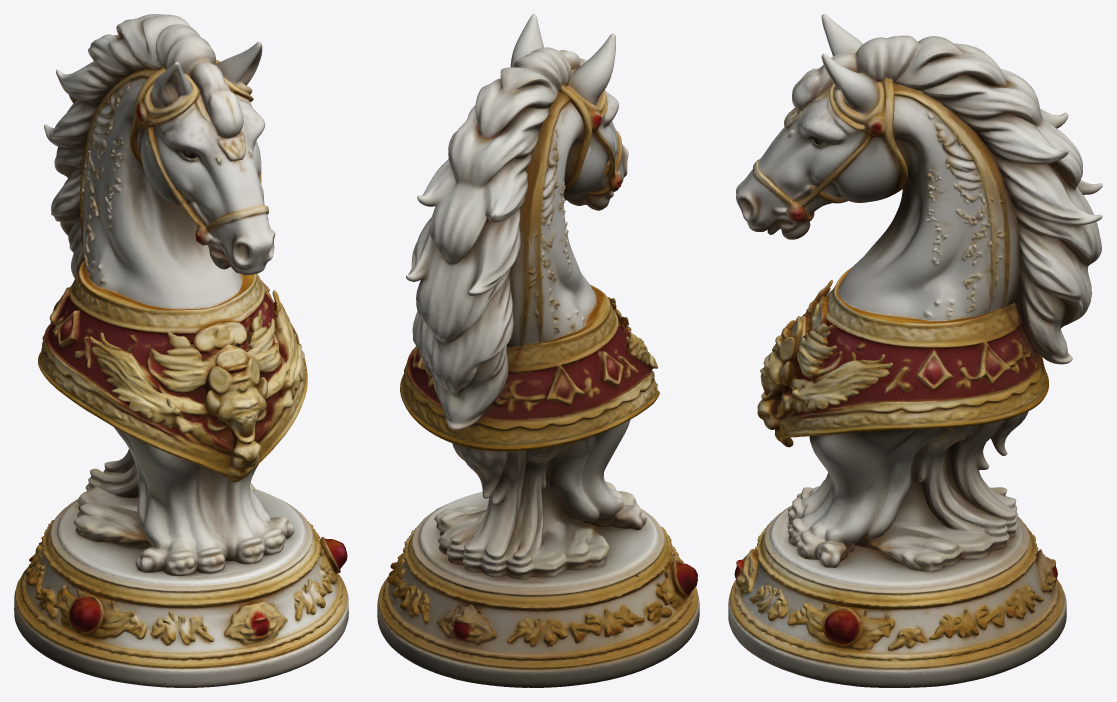
The model's file is sample_2026-11-06T110155.406.glb.
3 views of the same model, side by side, from view 1: azimuth 30°, elevation 25°; view 2: azimuth 150°, elevation 25°; view 3: azimuth 270°, elevation 25° (orthographic). The views are drawn at different scales.
Visible parts, largest first — view 1: world; view 2: world; view 3: world.
Part boxes in pixels (left/top/right/bottom): world: left=14, top=14, right=348, bottom=687; world: left=377, top=14, right=699, bottom=687; world: left=728, top=14, right=1102, bottom=687.
Size of the model in its own units: 0.5064 by 0.9959 by 0.5755.
1 material, 1 textured.
